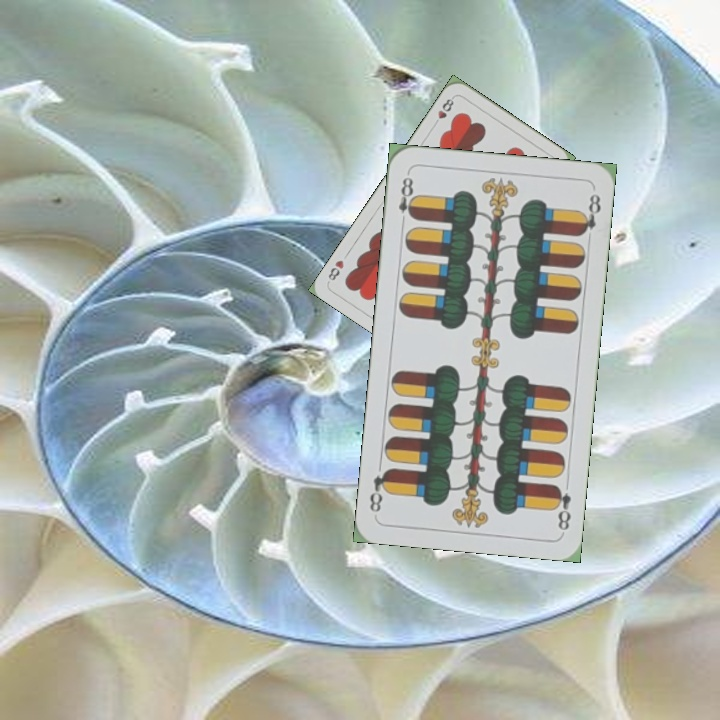E8: (394, 170, 419, 229), (549, 481, 574, 533)
H8: (429, 93, 457, 129)
